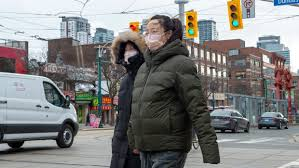mask: (144, 14, 182, 57), (116, 29, 144, 66)
